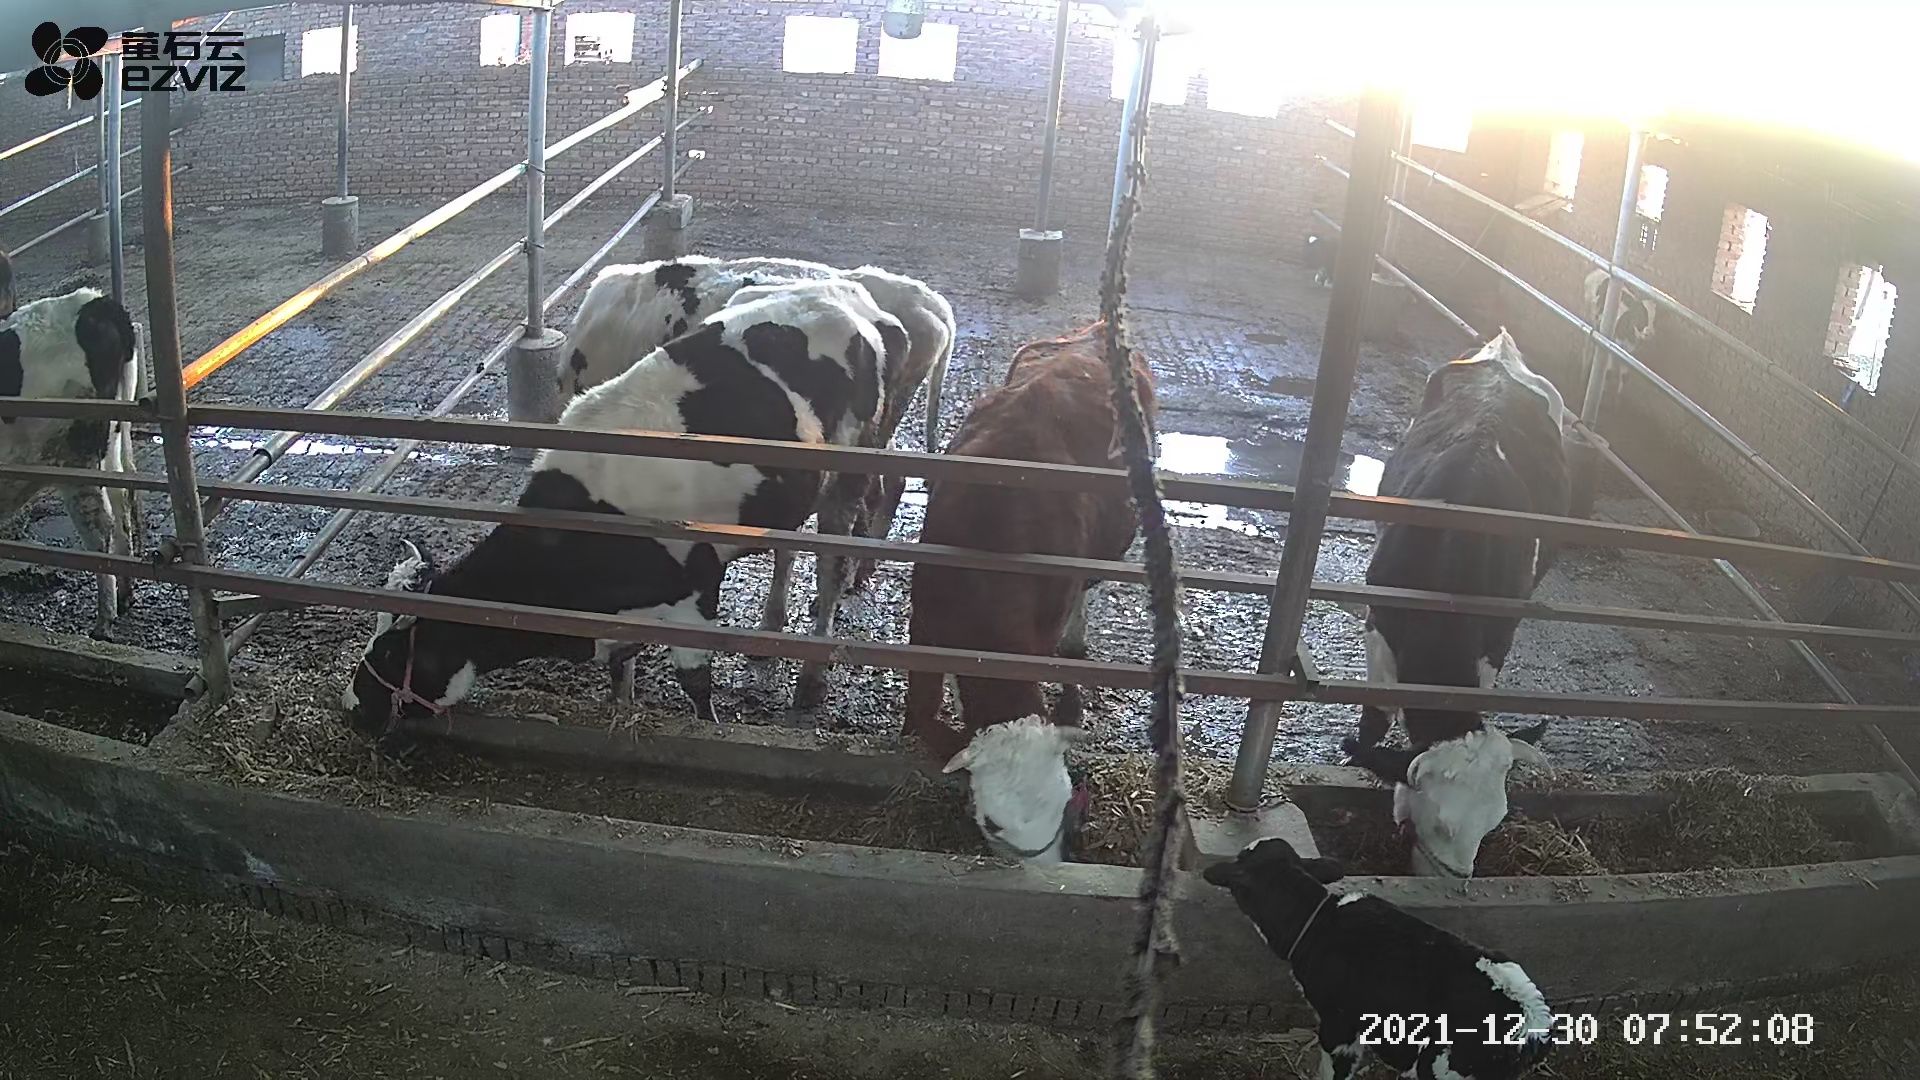cow: (338, 277, 909, 717), (902, 322, 1164, 862), (549, 253, 956, 592), (1336, 322, 1573, 880)
